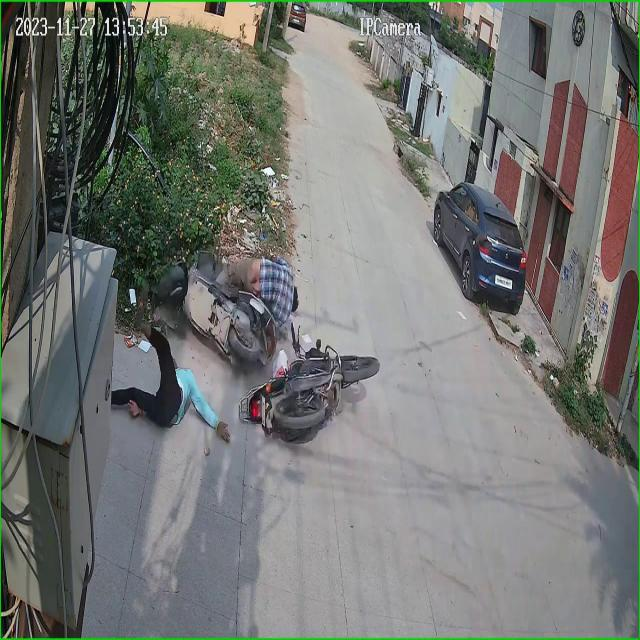accident: (111, 227, 383, 470)
